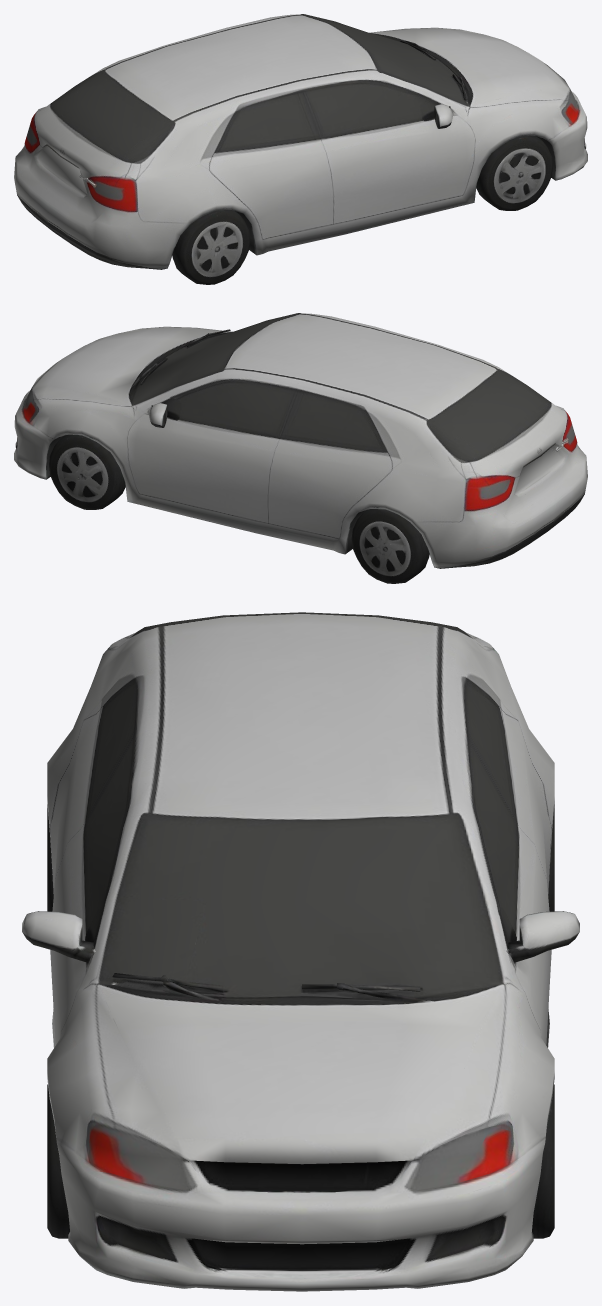
The model's file is saloon.glb.
3 views of the same model, one above another, from view 1: azimuth 30°, elevation 25°; view 2: azimuth 150°, elevation 25°; view 3: azimuth 270°, elevation 25° (orthographic). The views are drawn at different scales.
Parts seen in each view (by area): view 1: tripo_node_f0effca7-fa15-433c-8715-f52c64e28d28; view 2: tripo_node_f0effca7-fa15-433c-8715-f52c64e28d28; view 3: tripo_node_f0effca7-fa15-433c-8715-f52c64e28d28.
Boxes of the visible parts, x1,y1,x2,y2 form: tripo_node_f0effca7-fa15-433c-8715-f52c64e28d28: (14, 14, 587, 284); tripo_node_f0effca7-fa15-433c-8715-f52c64e28d28: (14, 313, 587, 583); tripo_node_f0effca7-fa15-433c-8715-f52c64e28d28: (22, 612, 579, 1291).
Bounding box in the file's own units: 0.998 × 0.3027 × 0.4707.
Materials: 1 (1 with a texture image).
